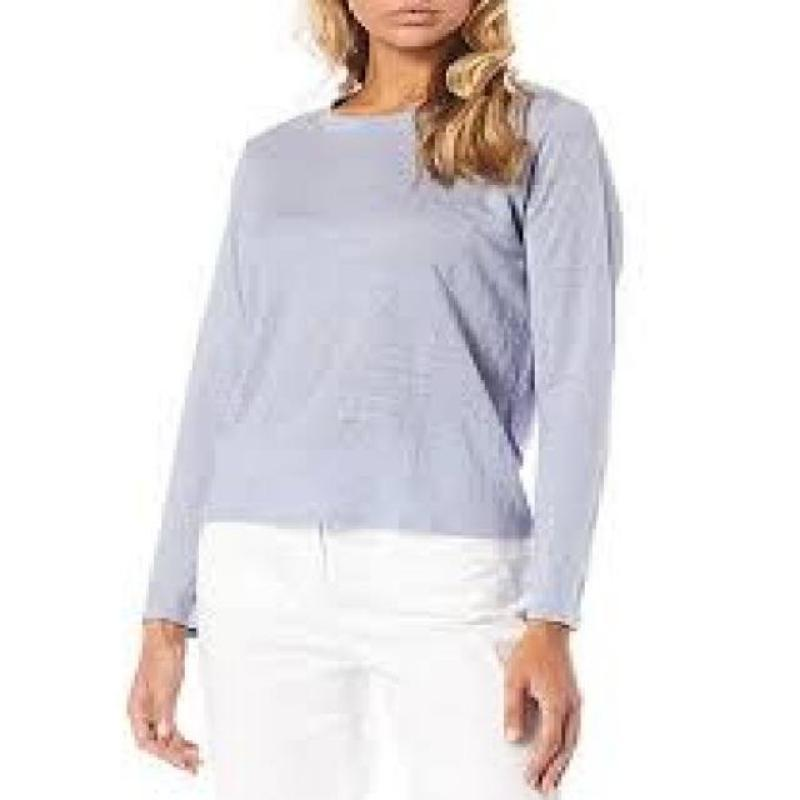long sleeve shirt: (141, 80, 626, 628)
trousers: (195, 516, 561, 800)
